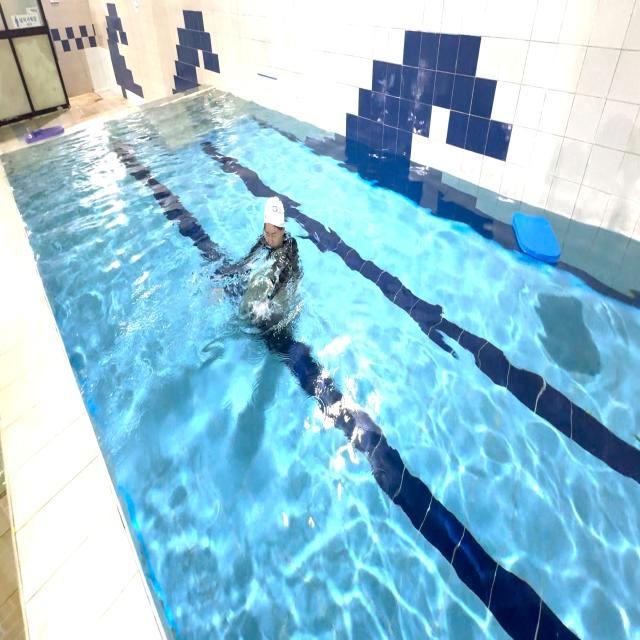Drowning: (202, 172, 336, 375)
